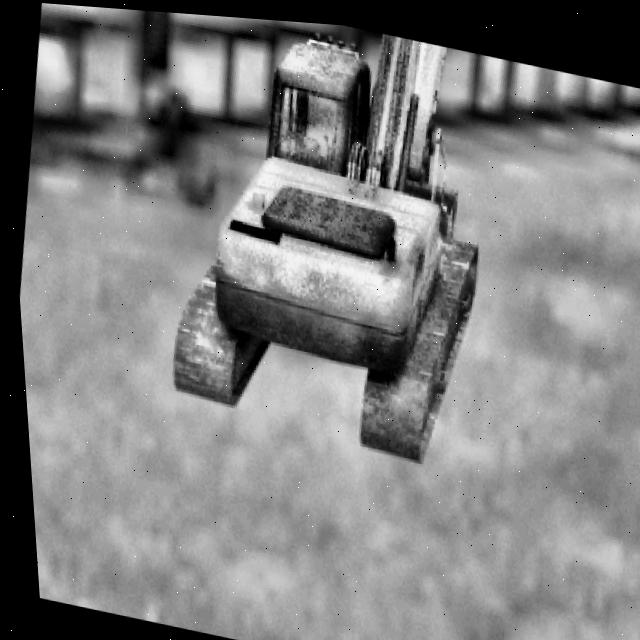excavator: (141, 8, 512, 466)
